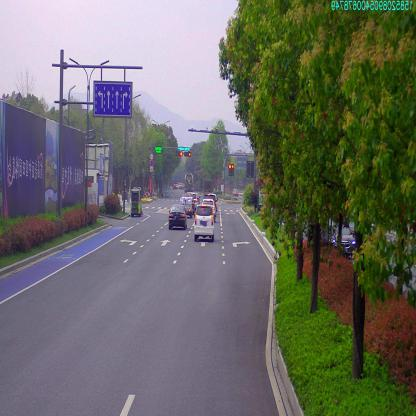traffic-light: (177, 145, 190, 151), (186, 148, 192, 156), (179, 150, 183, 157)
